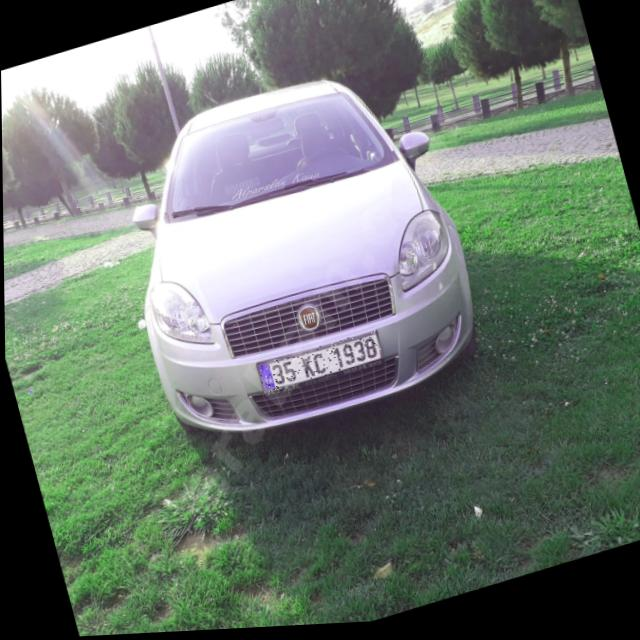license_plate: (255, 332, 382, 396)
